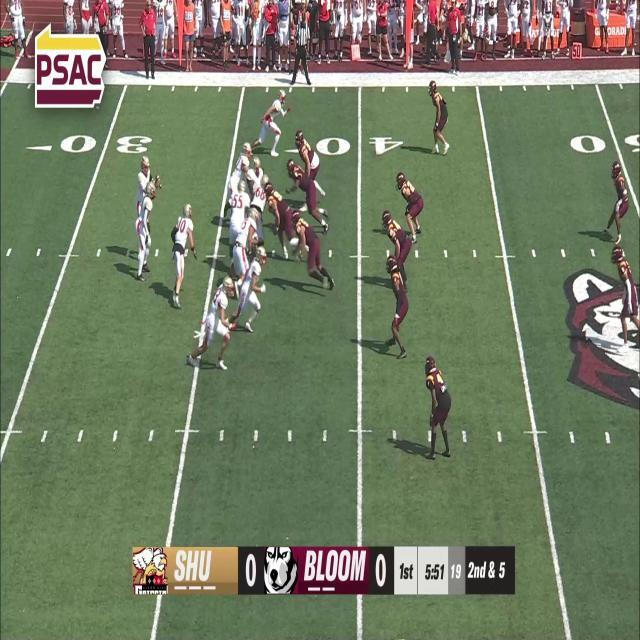football: (155, 174, 163, 190)
